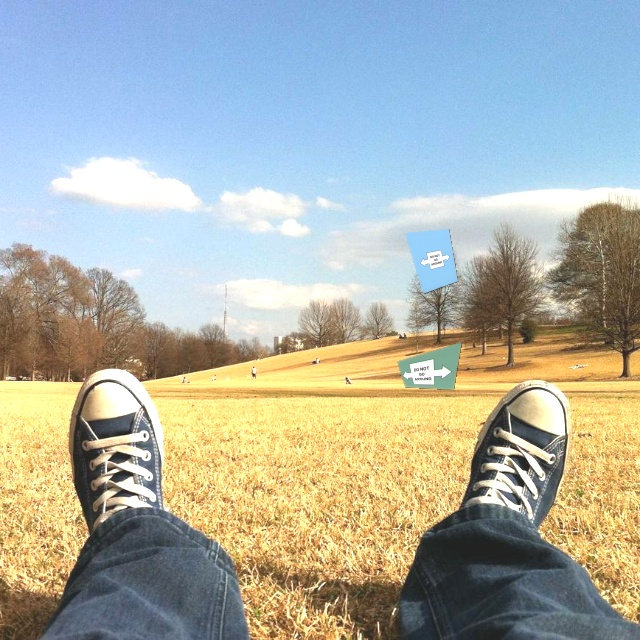DO_NOT_GO_AROUND: (399, 354, 457, 385), (418, 249, 452, 272)
